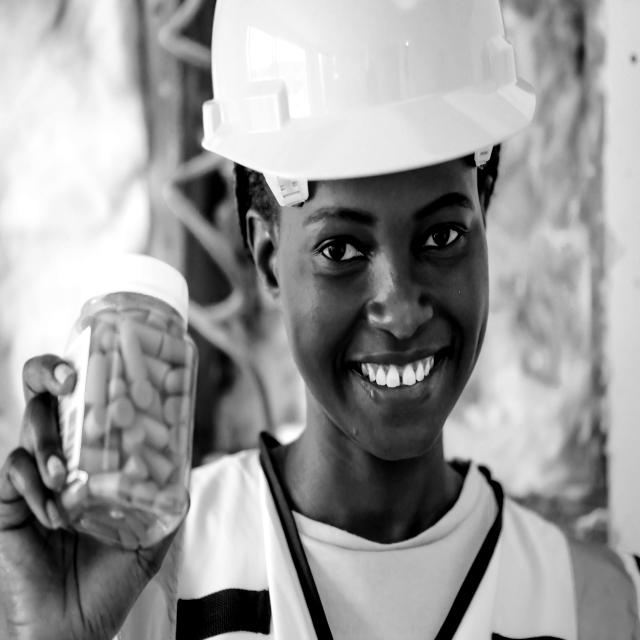Vest: (195, 458, 640, 640)
